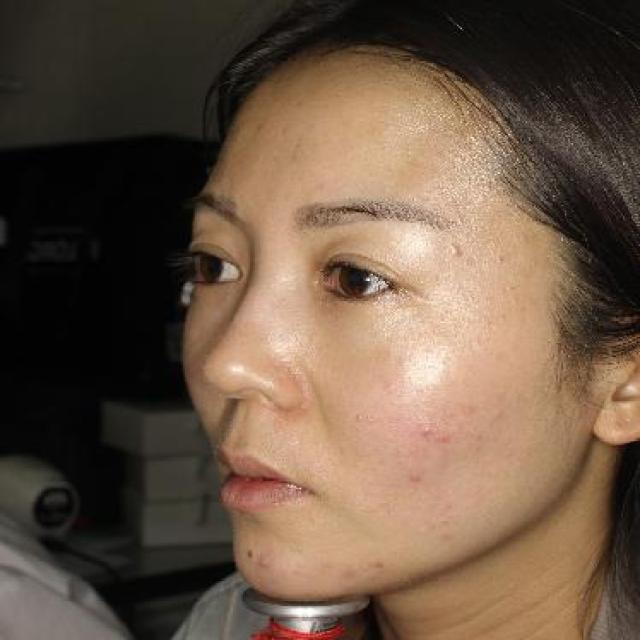Acne: (404, 468, 424, 488), (253, 552, 274, 571)
Whiteheads: (442, 238, 466, 262), (491, 249, 513, 269), (491, 403, 508, 425), (419, 418, 436, 440)
